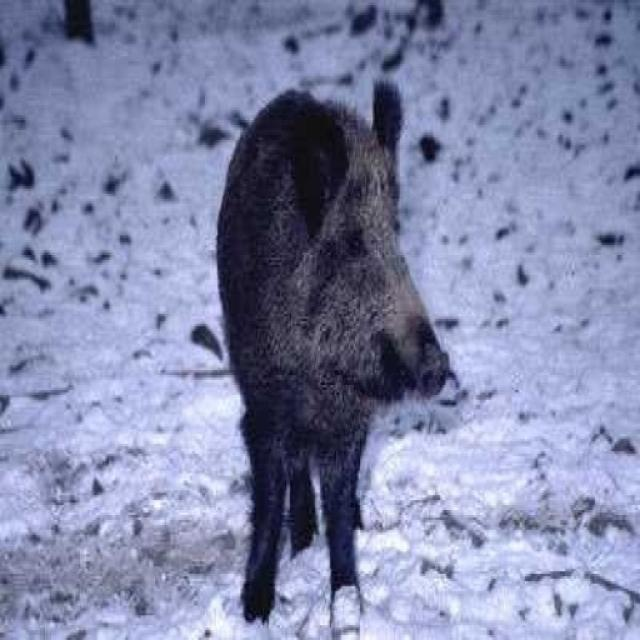pig: (174, 67, 496, 640)
